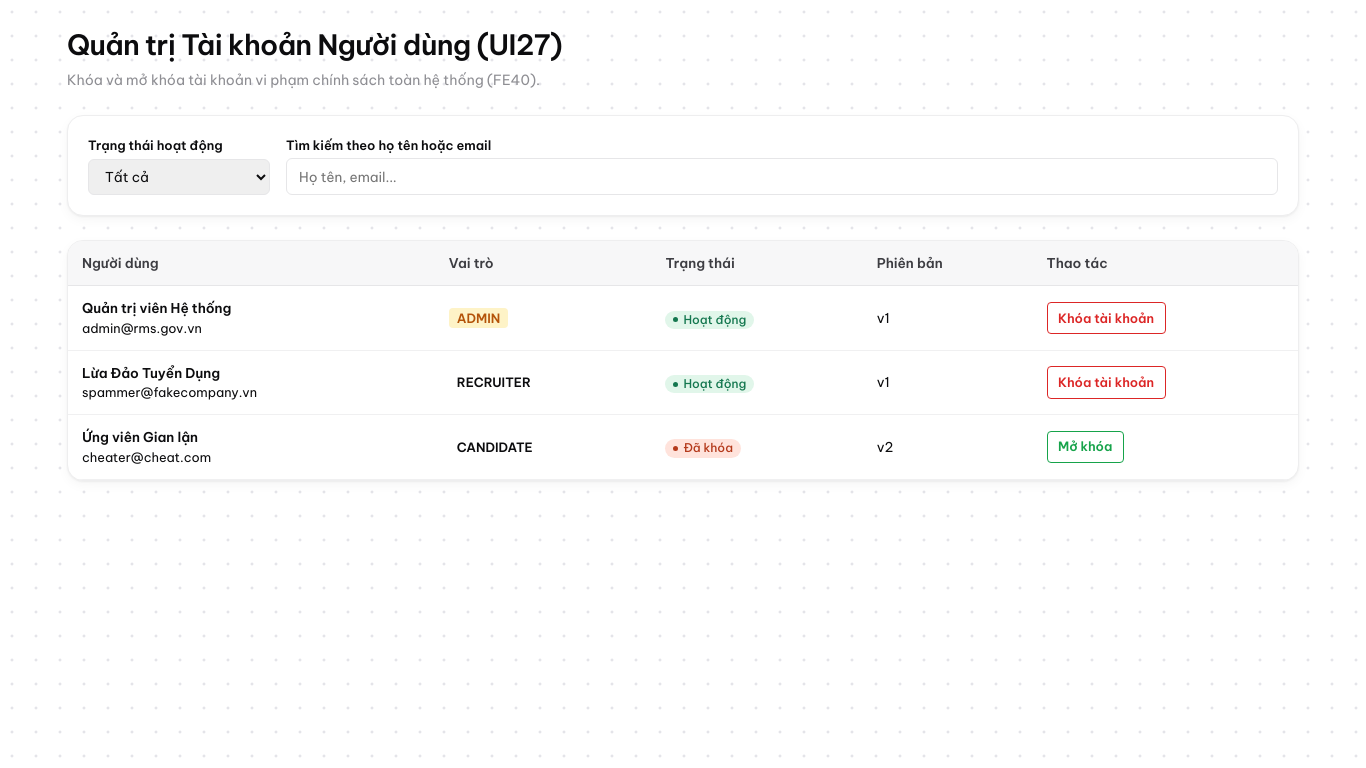
AdminUsersPage (UI27, FE40) › FE40: prevents locking the last ADMIN account and displays error
Click the button with test id "lock-user-btn-u-admin-root" at (1106, 318), box [1047, 302, 1166, 334]
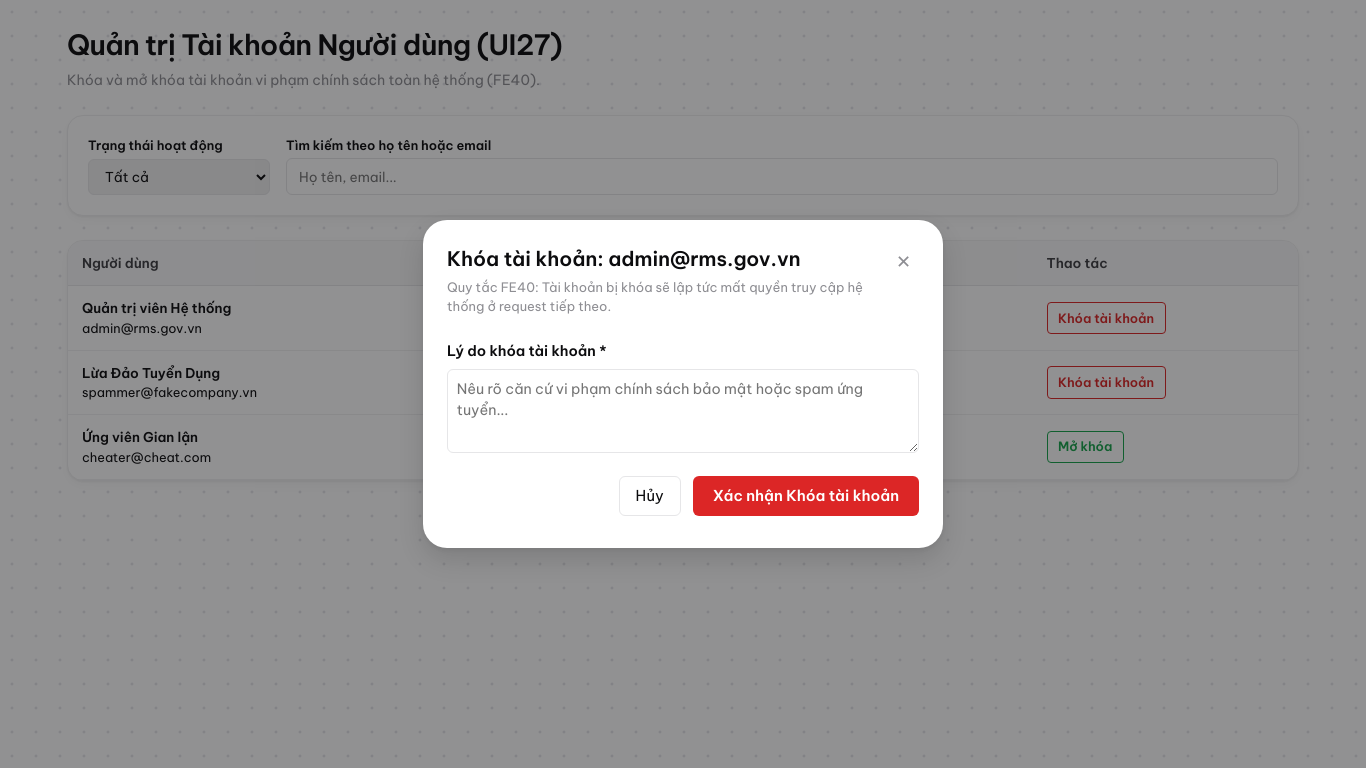
Replace the text in the text box with test id "lock-reason-input" with "Thử khóa tài khoản admin cuối cùng." at (683, 411), box [447, 369, 919, 453]
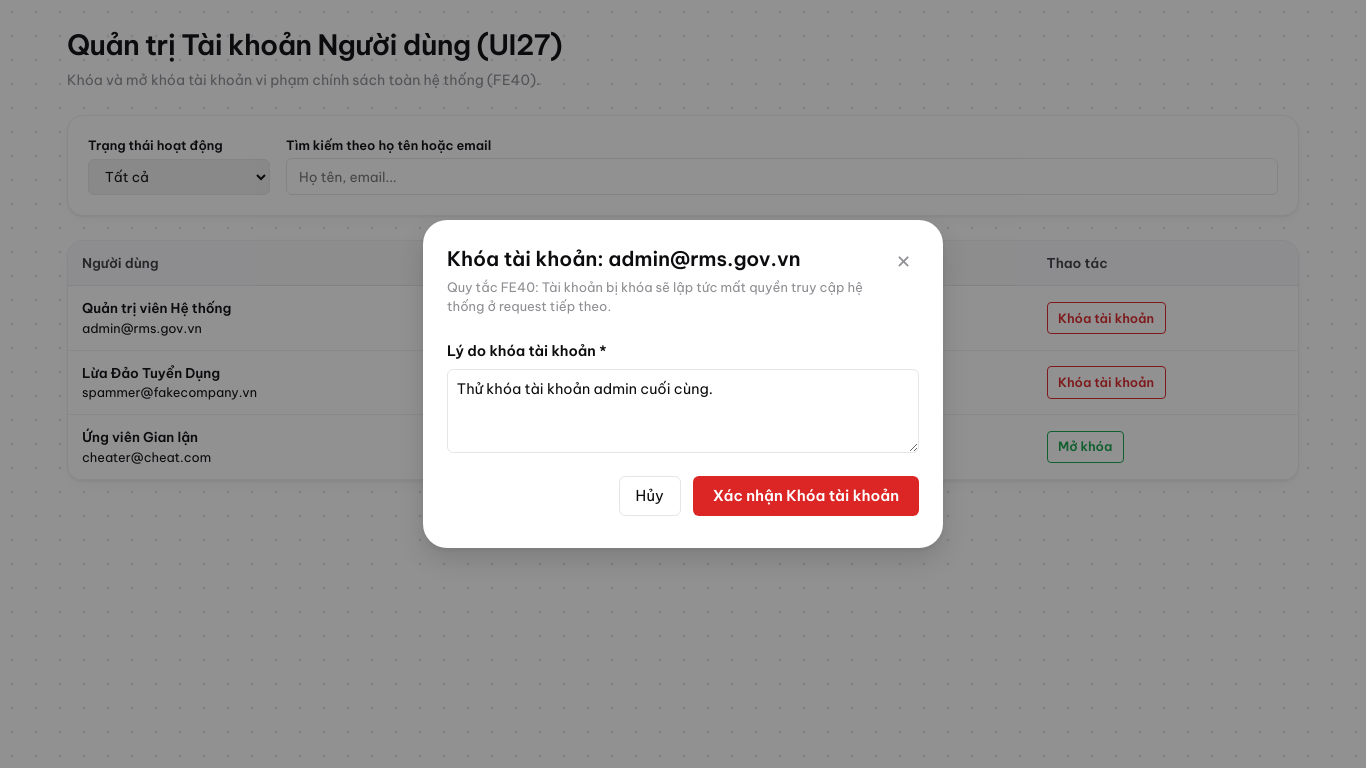
Click the button with test id "confirm-lock-btn" at (806, 496), box [693, 476, 919, 516]
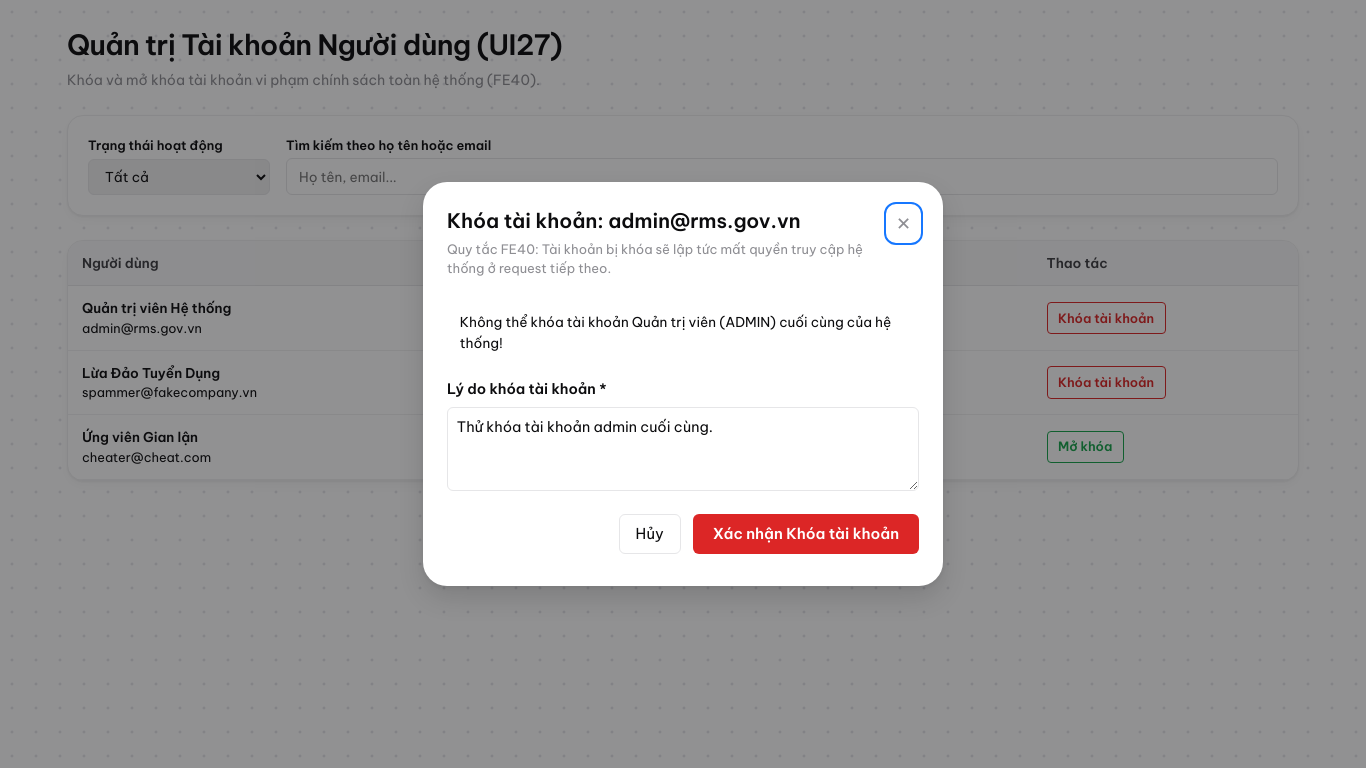
Now the text "Không thể khóa tài khoản Quản trị viên (ADMIN) cuối cùng của hệ thống!" is shown, box [447, 303, 919, 363]
